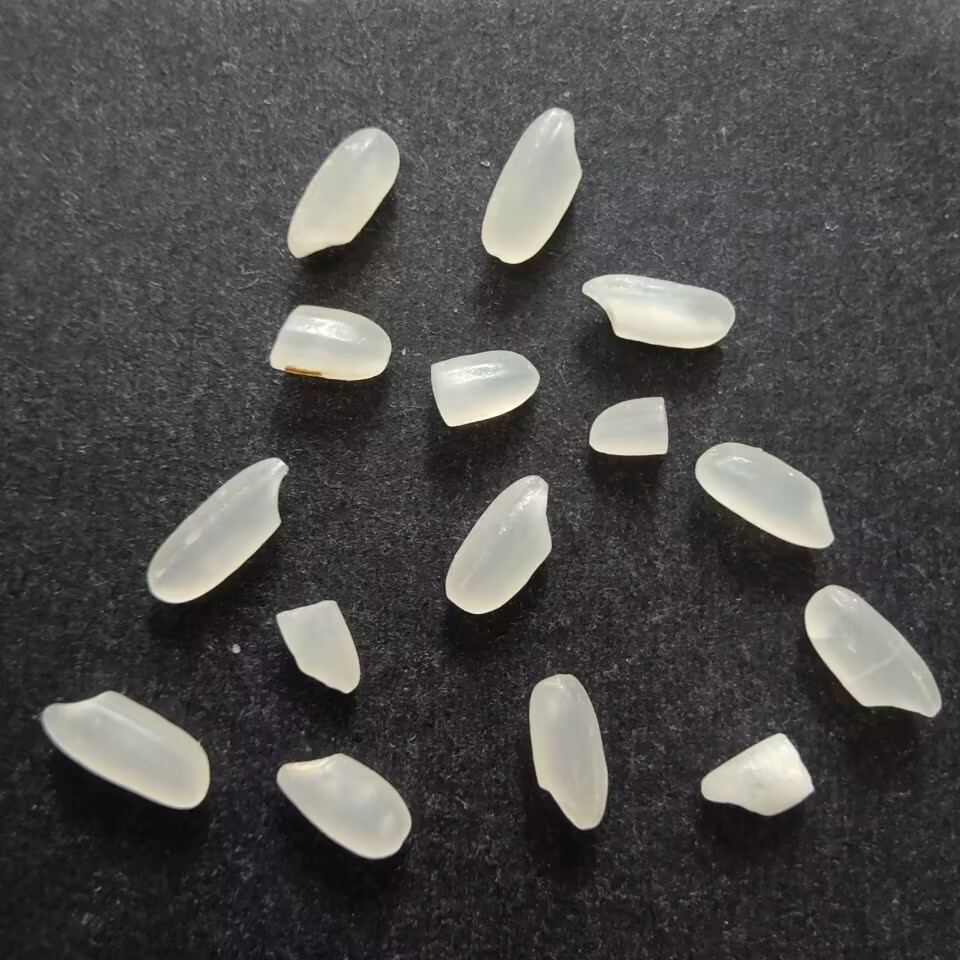broken: (698, 729, 816, 822), (266, 300, 393, 386), (426, 346, 545, 434), (272, 598, 363, 700), (585, 392, 676, 462)
rice: (144, 453, 289, 609), (37, 688, 213, 811), (799, 581, 944, 721), (481, 102, 589, 266), (690, 441, 838, 554), (440, 472, 554, 618), (271, 751, 416, 864), (285, 124, 401, 261), (522, 671, 610, 837), (576, 271, 742, 350)
